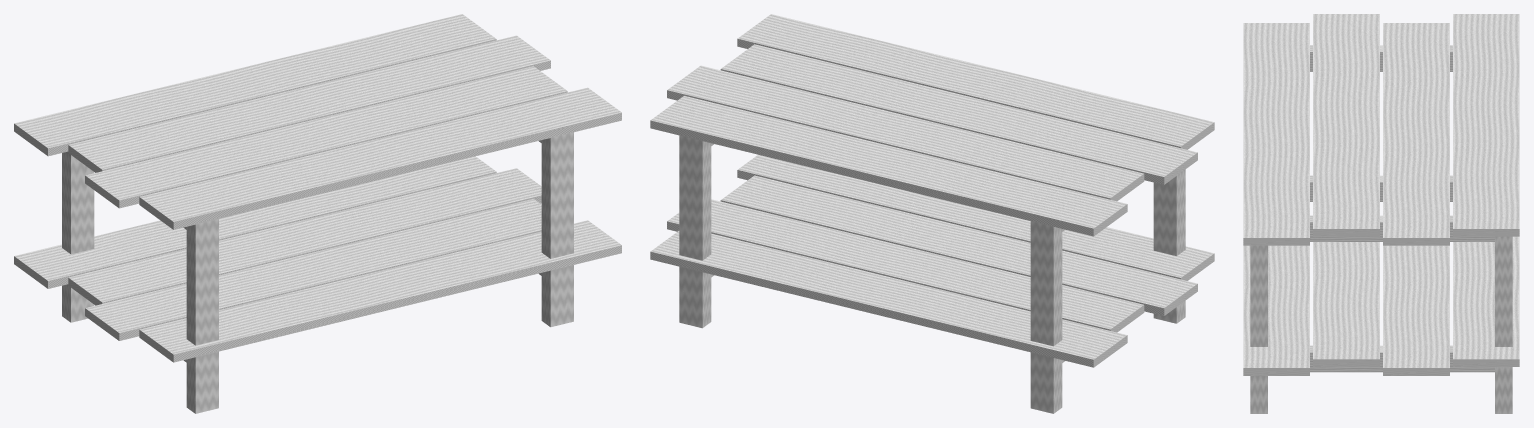
The picture shows the model from 3 angles, left to right: view 1: azimuth 30°, elevation 25°; view 2: azimuth 150°, elevation 25°; view 3: azimuth 270°, elevation 25°; orthographic projection.
Parts seen in each view (by area): view 1: 4 tabletop_slat_4, 8 shelf_slat_4, 3 tabletop_slat_3, 1 tabletop_slat_1, 2 tabletop_slat_2, 6 shelf_slat_2, 7 shelf_slat_3, 5 shelf_slat_1, 9 front_left_leg, 10 front_right_leg, 11 back_left_leg; view 2: 1 tabletop_slat_1, 5 shelf_slat_1, 3 tabletop_slat_3, 4 tabletop_slat_4, 2 tabletop_slat_2, 7 shelf_slat_3, 6 shelf_slat_2, 8 shelf_slat_4, 11 back_left_leg, 12 back_right_leg, 9 front_left_leg; view 3: 1 tabletop_slat_1, 2 tabletop_slat_2, 3 tabletop_slat_3, 4 tabletop_slat_4, 6 shelf_slat_2, 7 shelf_slat_3, 8 shelf_slat_4, 5 shelf_slat_1, 12 back_right_leg, 10 front_right_leg, 16 right_lower_crossbar, 14 right_upper_crossbar.
Part boxes in pixels (x1,y1,x2,y2): 4 tabletop_slat_4: (139,87,621,229); 8 shelf_slat_4: (139,220,621,362); 3 tabletop_slat_3: (85,66,567,208); 1 tabletop_slat_1: (14,14,496,156); 2 tabletop_slat_2: (68,35,550,172); 6 shelf_slat_2: (68,168,541,305); 7 shelf_slat_3: (85,199,541,340); 5 shelf_slat_1: (14,156,496,288); 9 front_left_leg: (186,219,218,413); 10 front_right_leg: (541,132,573,327); 11 back_left_leg: (62,151,94,322); 1 tabletop_slat_1: (650,96,1127,236); 5 shelf_slat_1: (650,231,1127,367); 3 tabletop_slat_3: (720,44,1197,184); 4 tabletop_slat_4: (737,14,1214,149); 2 tabletop_slat_2: (667,65,1144,201); 7 shelf_slat_3: (720,175,1197,315); 6 shelf_slat_2: (667,199,1144,332); 8 shelf_slat_4: (737,154,1214,280); 11 back_left_leg: (1030,221,1062,413); 12 back_right_leg: (679,135,711,328); 9 front_left_leg: (1153,169,1185,323); 1 tabletop_slat_1: (1453,14,1519,236); 2 tabletop_slat_2: (1383,23,1449,245); 3 tabletop_slat_3: (1313,14,1379,236); 4 tabletop_slat_4: (1243,23,1309,245); 6 shelf_slat_2: (1383,245,1449,375); 7 shelf_slat_3: (1313,242,1379,366); 8 shelf_slat_4: (1243,245,1309,375); 5 shelf_slat_1: (1453,236,1519,366); 12 back_right_leg: (1495,236,1512,413); 10 front_right_leg: (1250,245,1267,413); 16 right_lower_crossbar: (1310,345,1494,372); 14 right_upper_crossbar: (1310,215,1494,241).
Bounding box in the file's own units: 2.43 × 1 × 1.27.
Materials: 2 (2 with a texture image).
